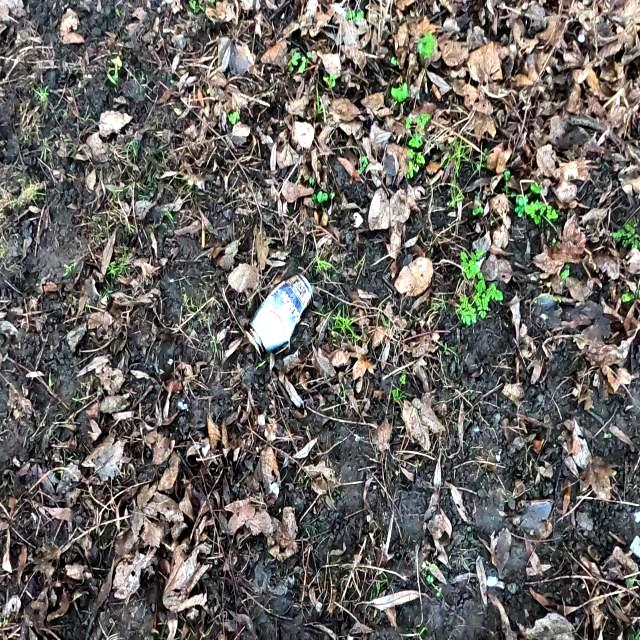Metal: (242, 270, 314, 360)
